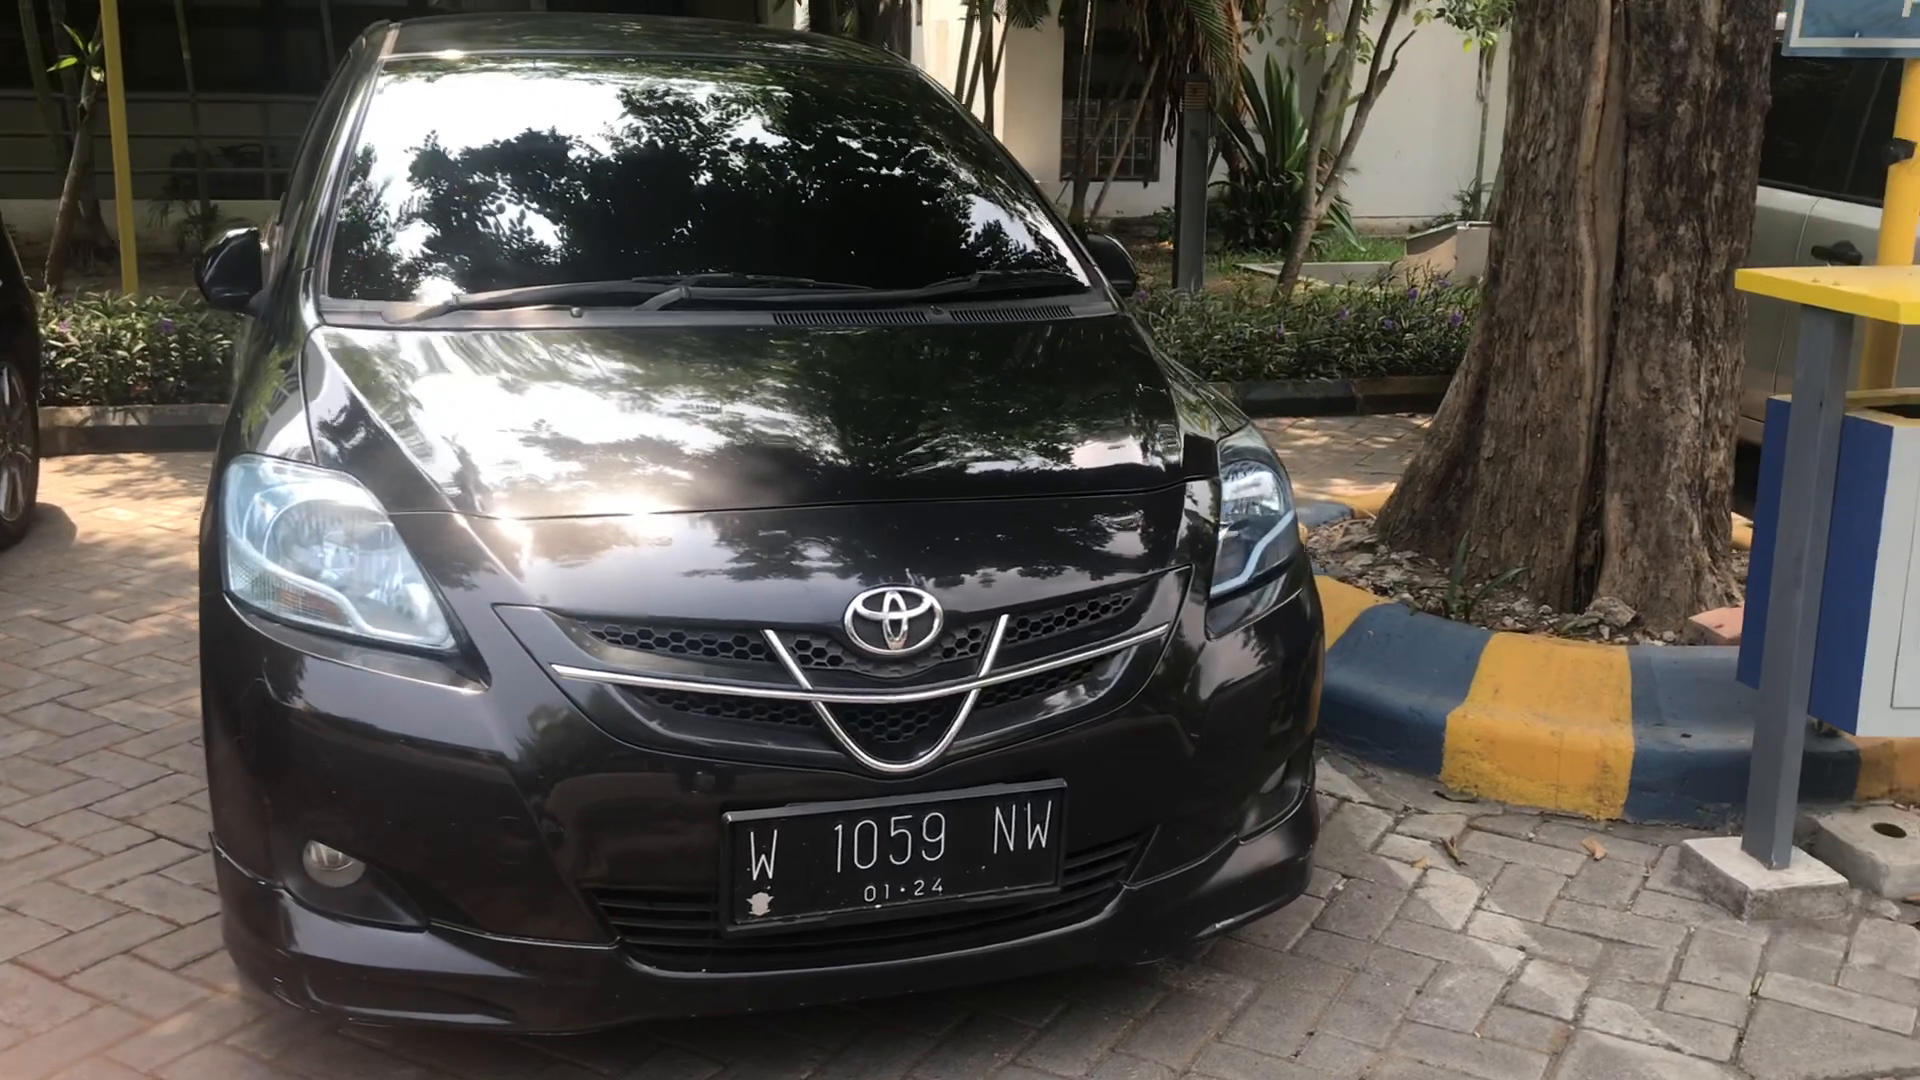plate: (725, 802, 1070, 912)
